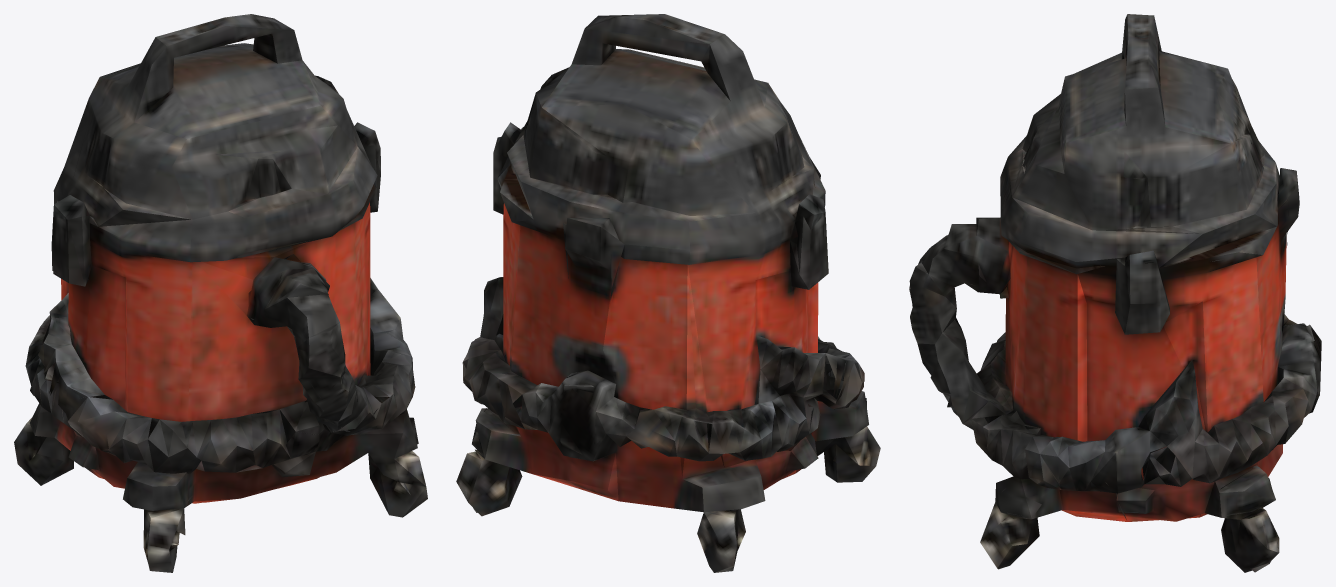
Rendered from p7-wet-dry-vac.glb.
3 renders of one model, left to right at view 1: azimuth 30°, elevation 25°; view 2: azimuth 150°, elevation 25°; view 3: azimuth 270°, elevation 25°, orthographic. The views are drawn at different scales.
Visible parts, largest first — view 1: p7-wet-dry-vac; view 2: p7-wet-dry-vac; view 3: p7-wet-dry-vac.
Part boxes in pixels (left/top/right/bottom): p7-wet-dry-vac: left=14, top=14, right=427, bottom=572; p7-wet-dry-vac: left=456, top=14, right=880, bottom=572; p7-wet-dry-vac: left=909, top=14, right=1321, bottom=572.
Bounding box in the file's own units: 0.5 × 0.65 × 0.5089.
1 material, 1 textured.
